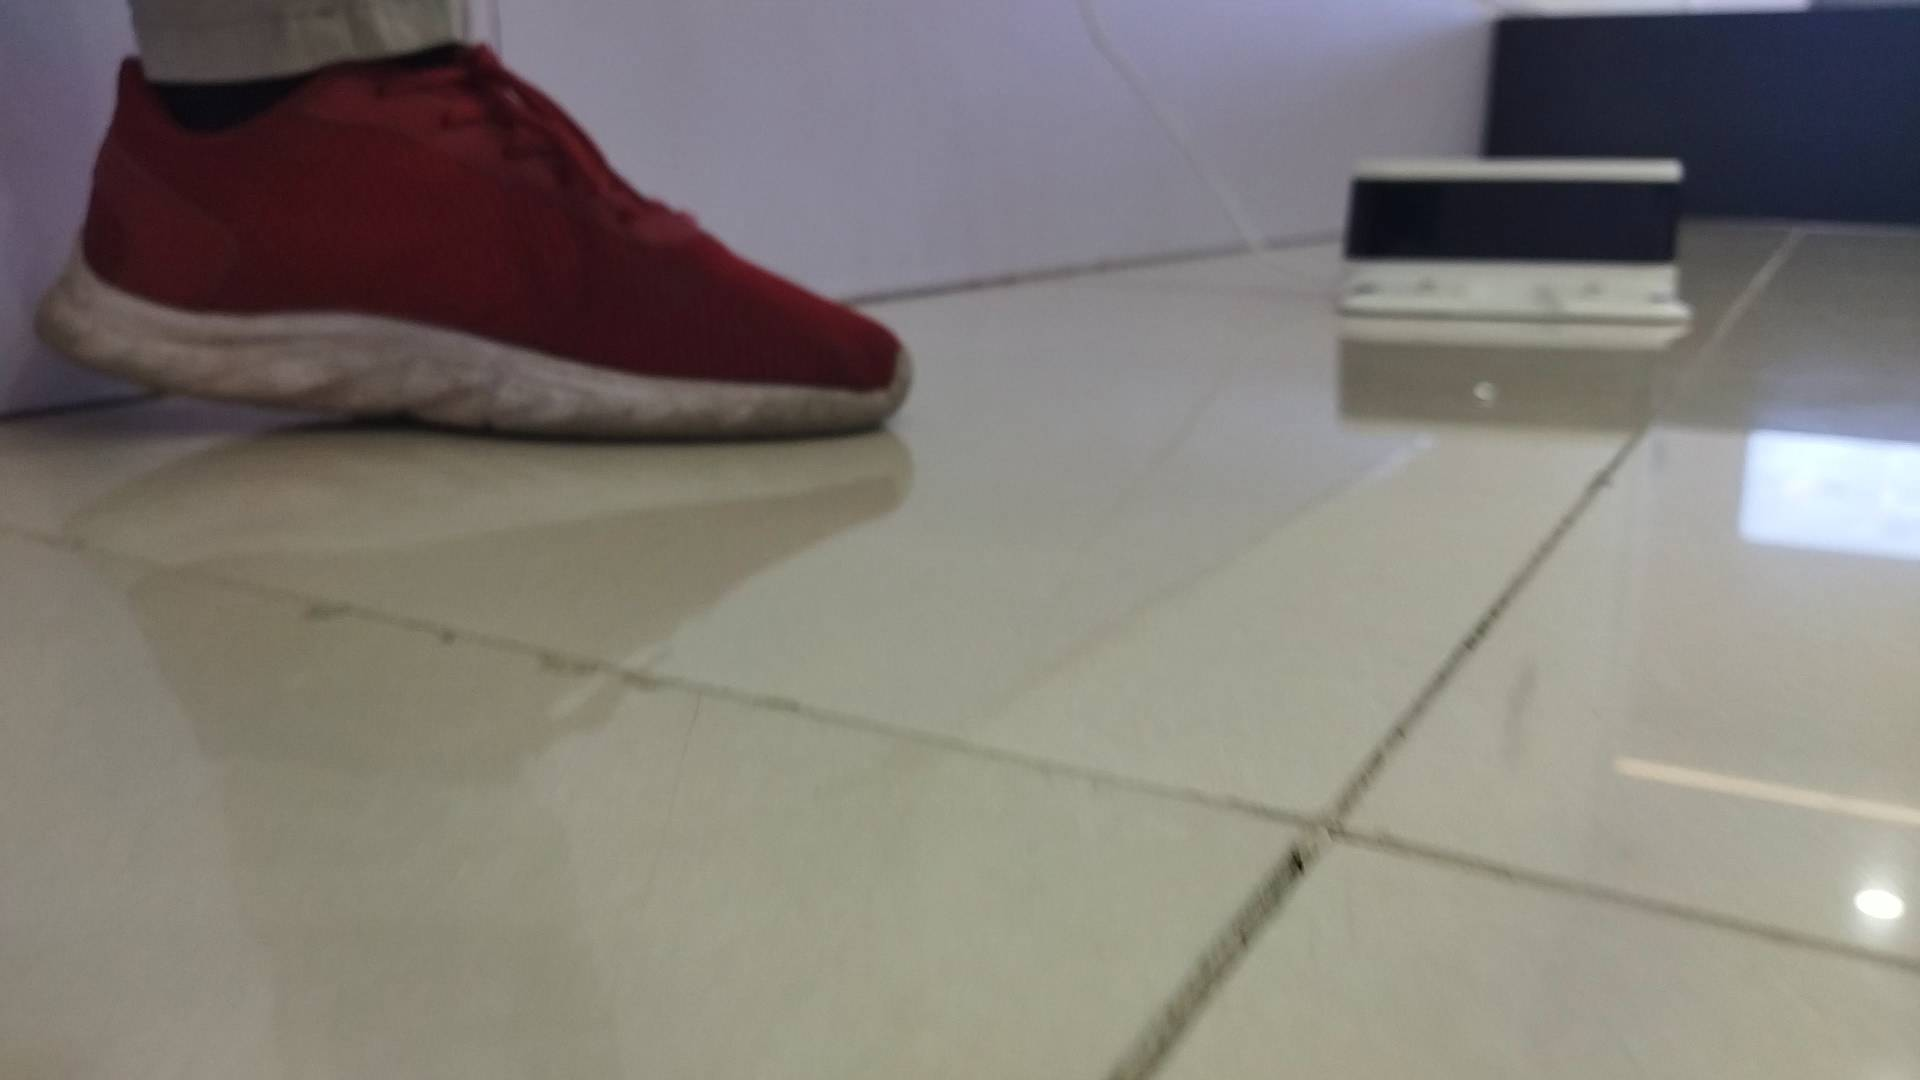recharge seat: (1337, 156, 1698, 324)
